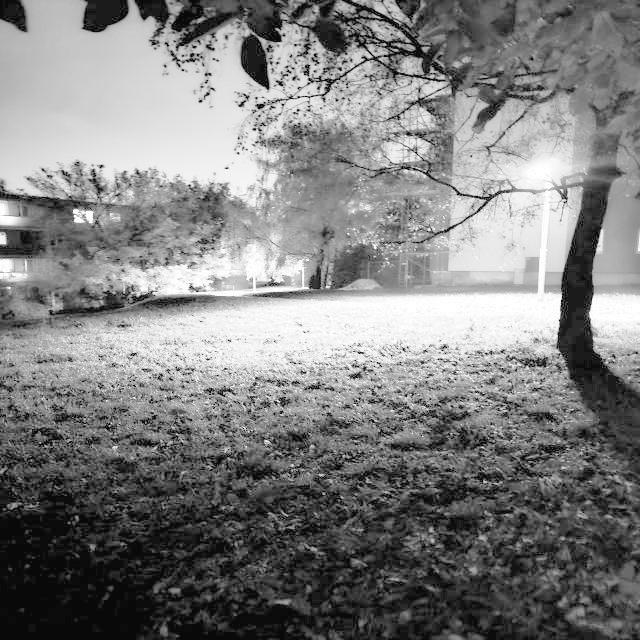Light: (533, 166, 554, 301)
Tree: (532, 38, 630, 357)
